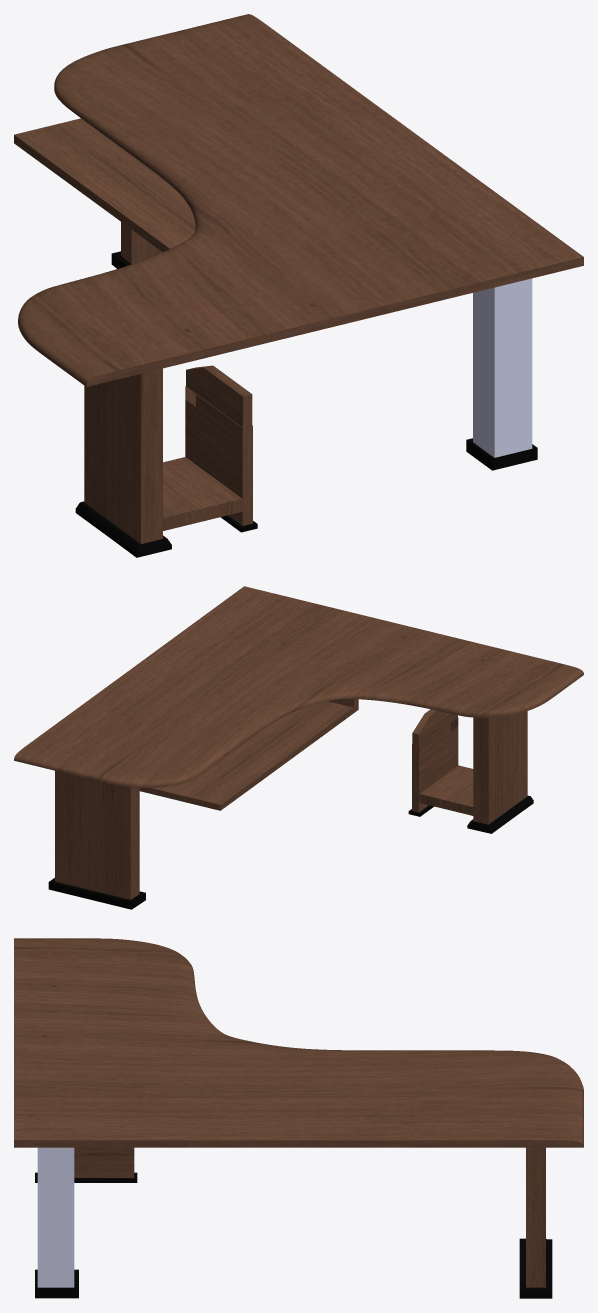
The picture shows the model from 3 angles, top to bottom: view 1: azimuth 30°, elevation 25°; view 2: azimuth 150°, elevation 25°; view 3: azimuth 270°, elevation 25°; orthographic projection. The views are drawn at different scales.
Parts seen in each view (by area): view 1: Table_0; view 2: Table_0; view 3: Table_0.
Boxes of the visible parts, x1=… form: Table_0: x1=14, y1=14, x2=583, y2=557; Table_0: x1=14, y1=586, x2=583, y2=909; Table_0: x1=14, y1=938, x2=583, y2=1298.
Size of the model in its own units: 2.03 by 0.7969 by 2.39.
Materials: 3 (1 with a texture image).
